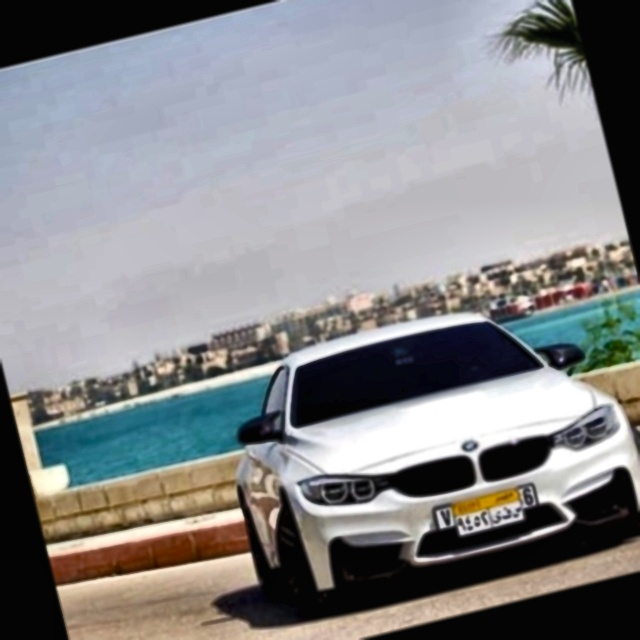License Plate: (448, 484, 528, 541)
